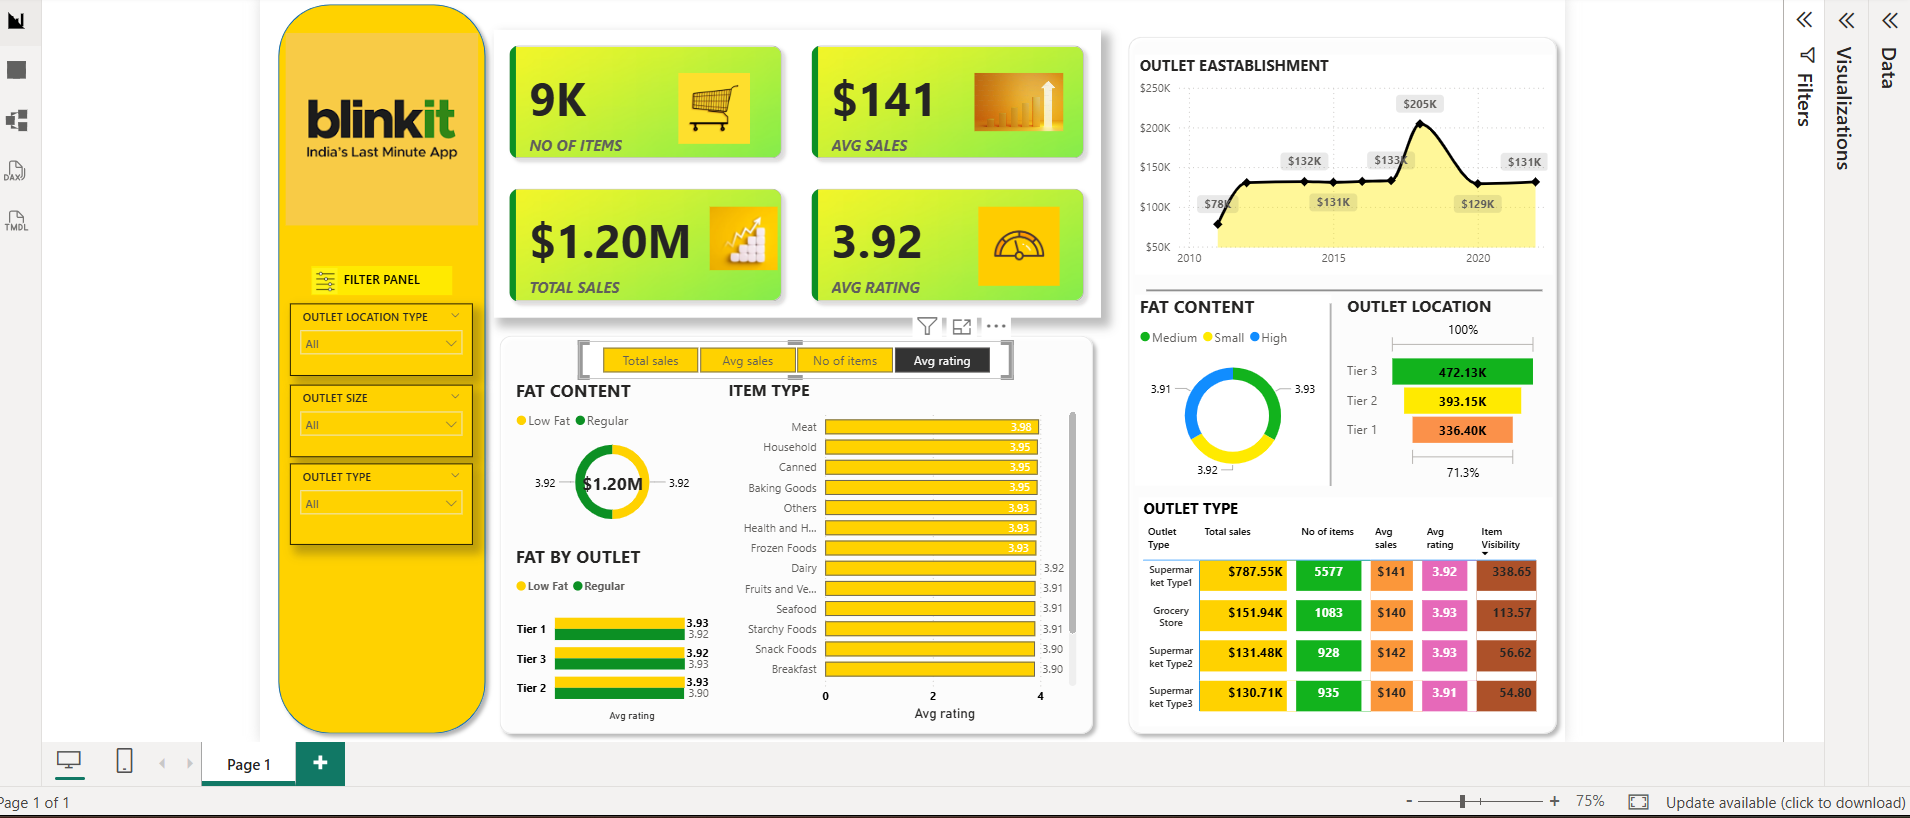

This screenshot's page, from the dashboard's own definition file:
{"tool":"powerbi","page":{"name":"Page 1","canvas":[1400,800],"ordinal":0},"visuals":[{"type":"shape","box":[10.5,0,240.1,800],"z":0},{"type":"image","box":[10.5,34.5,240.1,216.1],"z":1000},{"type":"cardVisual","fields":{"Data":["BlinkIT Grocery Data.No of items","BlinkIT Grocery Data.Avg sales","BlinkIT Grocery Data.Total sales","BlinkIT Grocery Data.Avg rating"]},"box":[250.6,36,651.4,309.2],"z":2000},{"type":"image","box":[475.9,221.2,85.8,77.7],"z":3000},{"type":"image","box":[426.2,78,121.6,85.5],"z":4000},{"type":"image","box":[760.9,78,105.1,72],"z":5000},{"type":"image","box":[735.4,220.6,156.1,94.6],"z":6000},{"type":"shape","box":[248,355.2,654.2,445],"z":7000},{"type":"donutChart","title":"FAT CONTENT","fields":{"Y":["BlinkIT Grocery Data.No of items"],"Category":["BlinkIT Grocery Data.Item Fat Content"]},"box":[269.4,410.2,217.2,167.6],"z":8000},{"type":"card","fields":{"Values":["BlinkIT Grocery Data.Total sales"]},"box":[323.1,494.6,111.3,60.3],"z":9000},{"type":"clusteredBarChart","title":"FAT BY OUTLET","fields":{"Y":["BlinkIT Grocery Data.No of items"],"Series":["BlinkIT Grocery Data.Item Fat Content"],"Category":["BlinkIT Grocery Data.Outlet Location Type"]},"box":[269.4,588.5,217.2,194.4],"z":10000},{"type":"barChart","title":"ITEM TYPE","fields":{"Y":["BlinkIT Grocery Data.No of items"],"Category":["BlinkIT Grocery Data.Item Type"]},"box":[497.3,410.2,383.4,372.7],"z":11000},{"type":"slicer","fields":{"Values":["metrics 3.metrics"]},"box":[341.8,370,465.1,40.2],"z":12000},{"type":"shape","box":[922.3,34.9,477.2,765.4],"z":13000},{"type":"lineChart","title":"OUTLET EASTABLISHMENT","fields":{"Category":["BlinkIT Grocery Data.Outlet Establishment Year"],"Y":["BlinkIT Grocery Data.Total sales"]},"box":[938.3,63,447.7,235.9],"z":14000},{"type":"shape","box":[950.4,166.2,424.9,298.9],"z":15000},{"type":"donutChart","title":"FAT CONTENT","fields":{"Y":["BlinkIT Grocery Data.No of items"],"Category":["BlinkIT Grocery Data.Outlet Size"]},"box":[938.3,320.4,210.5,205.1],"z":16000},{"type":"shape","box":[998.7,329.8,298.9,195.7],"z":17000},{"type":"funnel","title":"OUTLET LOCATION","fields":{"Category":["BlinkIT Grocery Data.Outlet Location Type"],"Y":["Sum(BlinkIT Grocery Data.Sales)"]},"box":[1160.9,320.4,214.5,205.1],"z":18000},{"type":"shape","box":[951.7,410.2,424.9,298.9],"z":19000},{"type":"pivotTable","title":"OUTLET TYPE","fields":{"Rows":["BlinkIT Grocery Data.Outlet Type"],"Values":["BlinkIT Grocery Data.Total sales","BlinkIT Grocery Data.No of items","BlinkIT Grocery Data.Avg sales","BlinkIT Grocery Data.Avg rating","Sum(BlinkIT Grocery Data.Item Visibility)"]},"box":[942.4,537.5,443.7,245.3],"z":20000},{"type":"slicer","fields":{"Values":["BlinkIT Grocery Data.Outlet Location Type"]},"box":[32.2,329.8,195.7,77.7],"z":21000},{"type":"slicer","fields":{"Values":["BlinkIT Grocery Data.Outlet Size"]},"box":[32.2,416.9,195.7,77.7],"z":22000},{"type":"slicer","fields":{"Values":["BlinkIT Grocery Data.Item Type"]},"box":[32.2,501.3,195.7,87.1],"z":23000},{"type":"textbox","box":[55,289.5,151.5,30.8],"z":24000},{"type":"image","box":[41.6,286.9,56.3,37.5],"z":25000}]}

Visuals, with their boxes on the page's 1400x800 design canvas (x1, y1, x2, y2). These are canvas units, not pixel positions in the 1910x818 screenshot, which may show the page scaled, cropped or inside an application window:
shape: box=[10, 0, 251, 800]
image: box=[10, 34, 251, 251]
cardVisual - BlinkIT Grocery Data.No of items x BlinkIT Grocery Data.Avg sales: box=[251, 36, 902, 345]
image: box=[476, 221, 562, 299]
image: box=[426, 78, 548, 164]
image: box=[761, 78, 866, 150]
image: box=[735, 221, 892, 315]
shape: box=[248, 355, 902, 800]
"FAT CONTENT" donutChart: box=[269, 410, 487, 578]
card - BlinkIT Grocery Data.Total sales: box=[323, 495, 434, 555]
"FAT BY OUTLET" clusteredBarChart: box=[269, 588, 487, 783]
"ITEM TYPE" barChart: box=[497, 410, 881, 783]
slicer - metrics 3.metrics: box=[342, 370, 807, 410]
shape: box=[922, 35, 1400, 800]
"OUTLET EASTABLISHMENT" lineChart: box=[938, 63, 1386, 299]
shape: box=[950, 166, 1375, 465]
"FAT CONTENT" donutChart: box=[938, 320, 1149, 526]
shape: box=[999, 330, 1298, 526]
"OUTLET LOCATION" funnel: box=[1161, 320, 1375, 526]
shape: box=[952, 410, 1377, 709]
"OUTLET TYPE" pivotTable: box=[942, 538, 1386, 783]
slicer - BlinkIT Grocery Data.Outlet Location Type: box=[32, 330, 228, 408]
slicer - BlinkIT Grocery Data.Outlet Size: box=[32, 417, 228, 495]
slicer - BlinkIT Grocery Data.Item Type: box=[32, 501, 228, 588]
textbox: box=[55, 290, 206, 320]
image: box=[42, 287, 98, 324]
